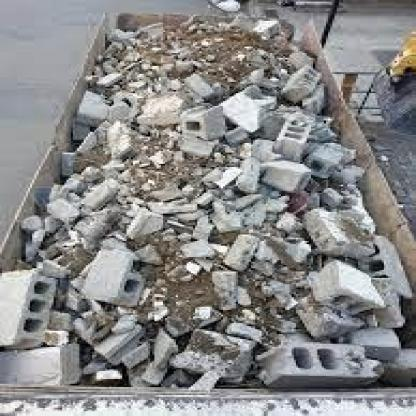brick: (0, 15, 413, 387)
